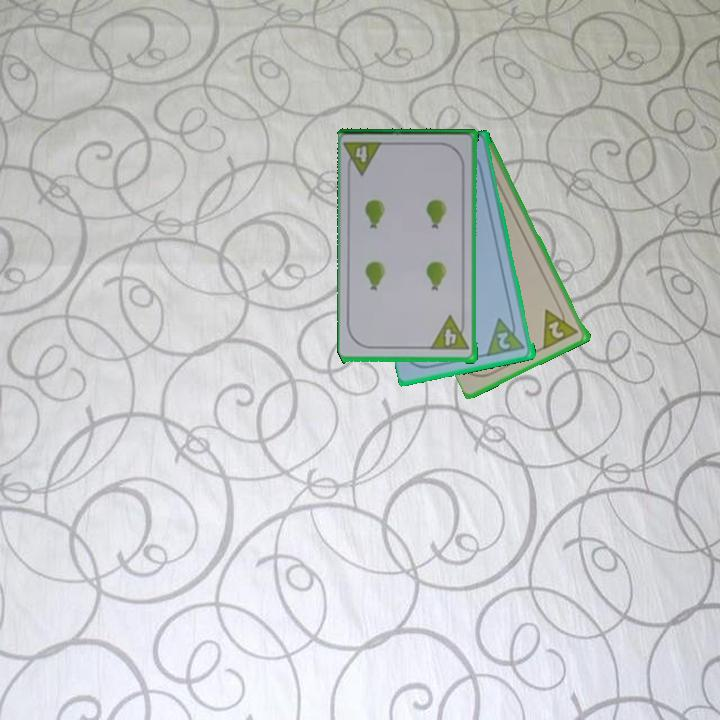2p: (545, 318, 567, 342), (494, 329, 513, 353)
4p: (428, 314, 461, 350), (352, 143, 371, 165)
